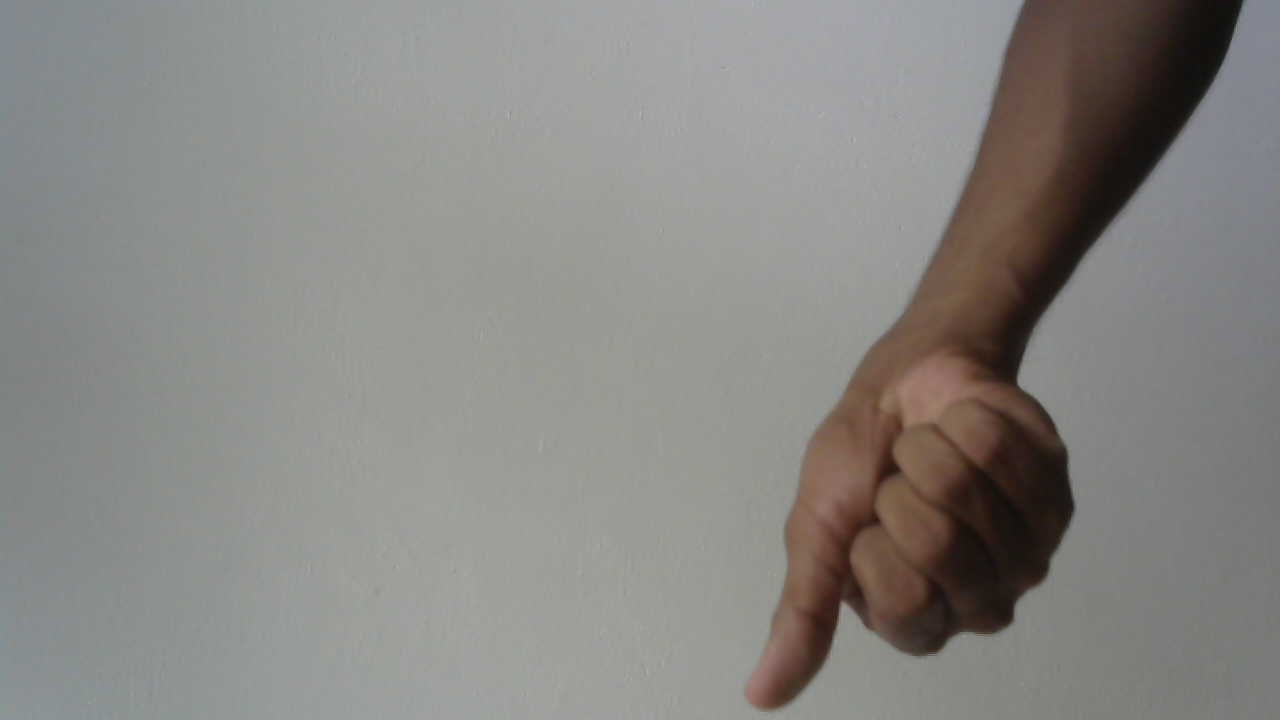thumbsdown: (732, 297, 1088, 713)
